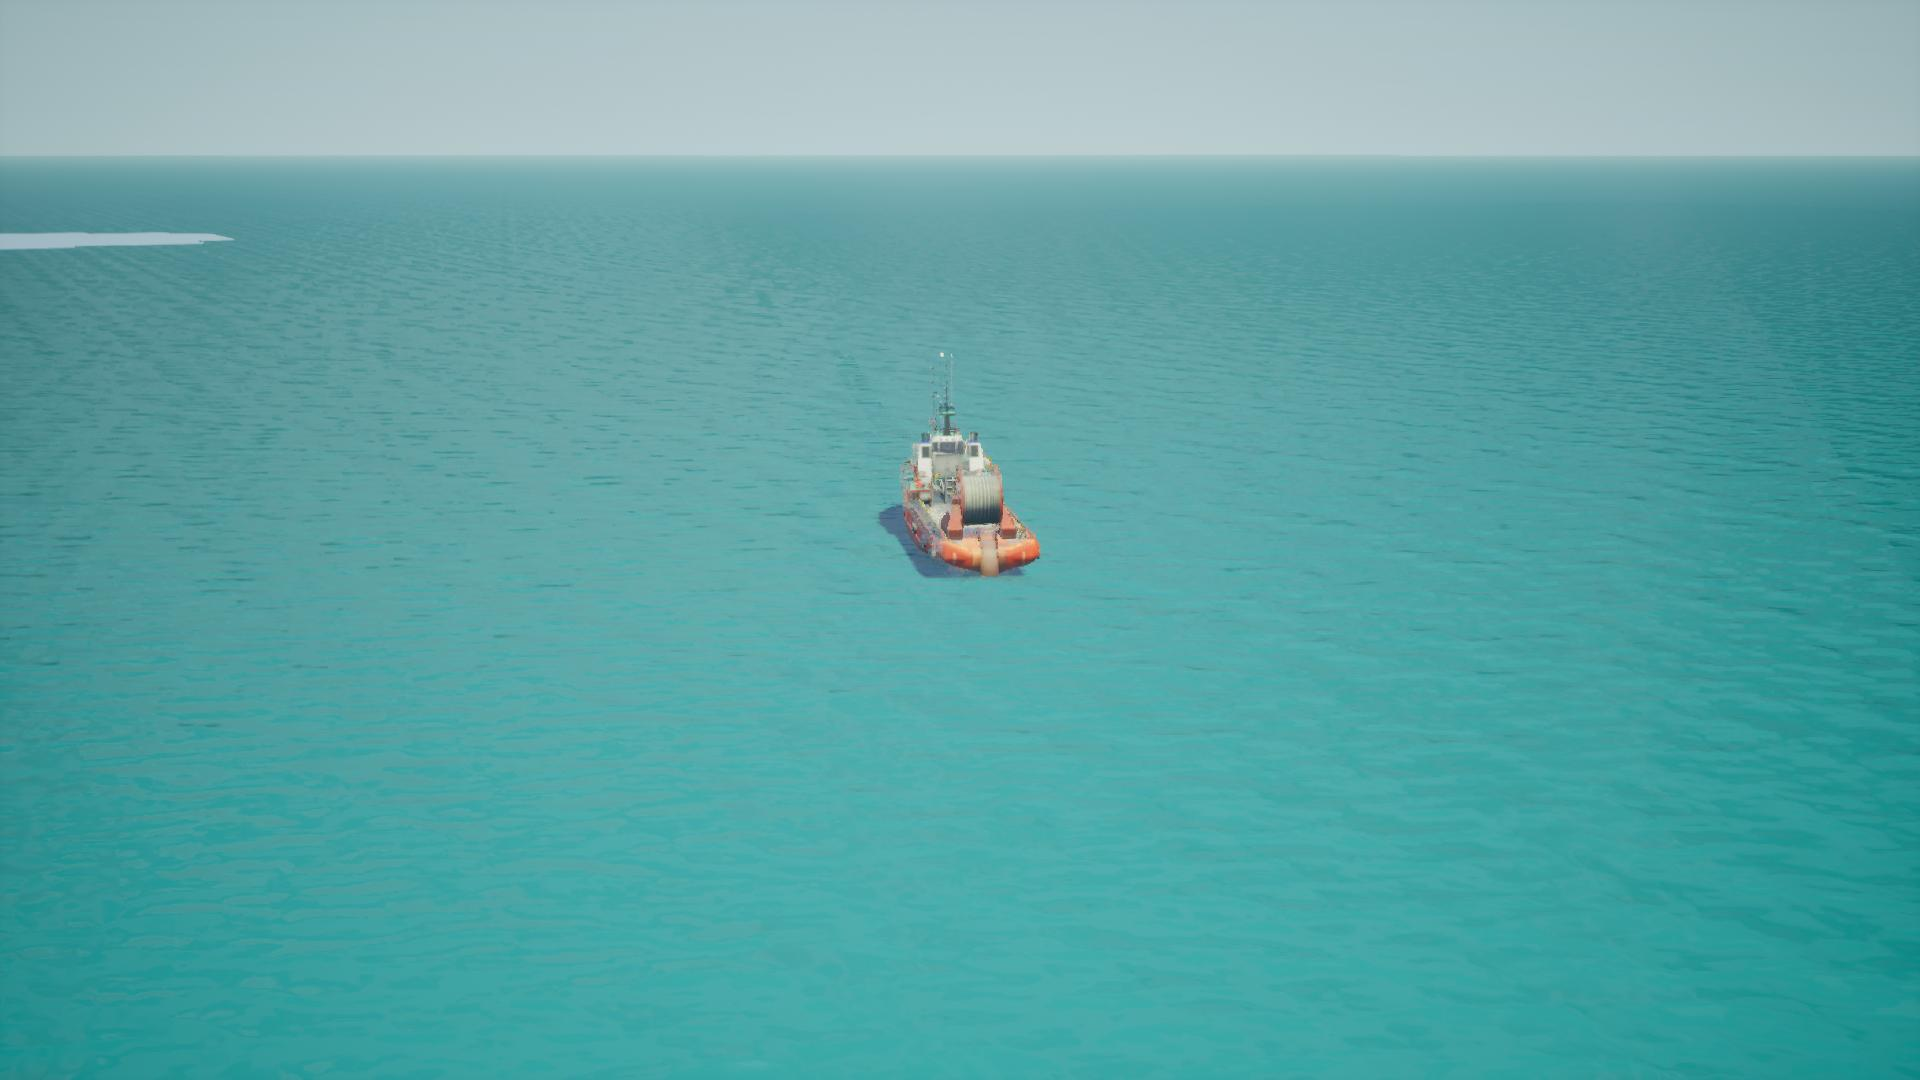Tug Boat: (897, 355, 1034, 579)
